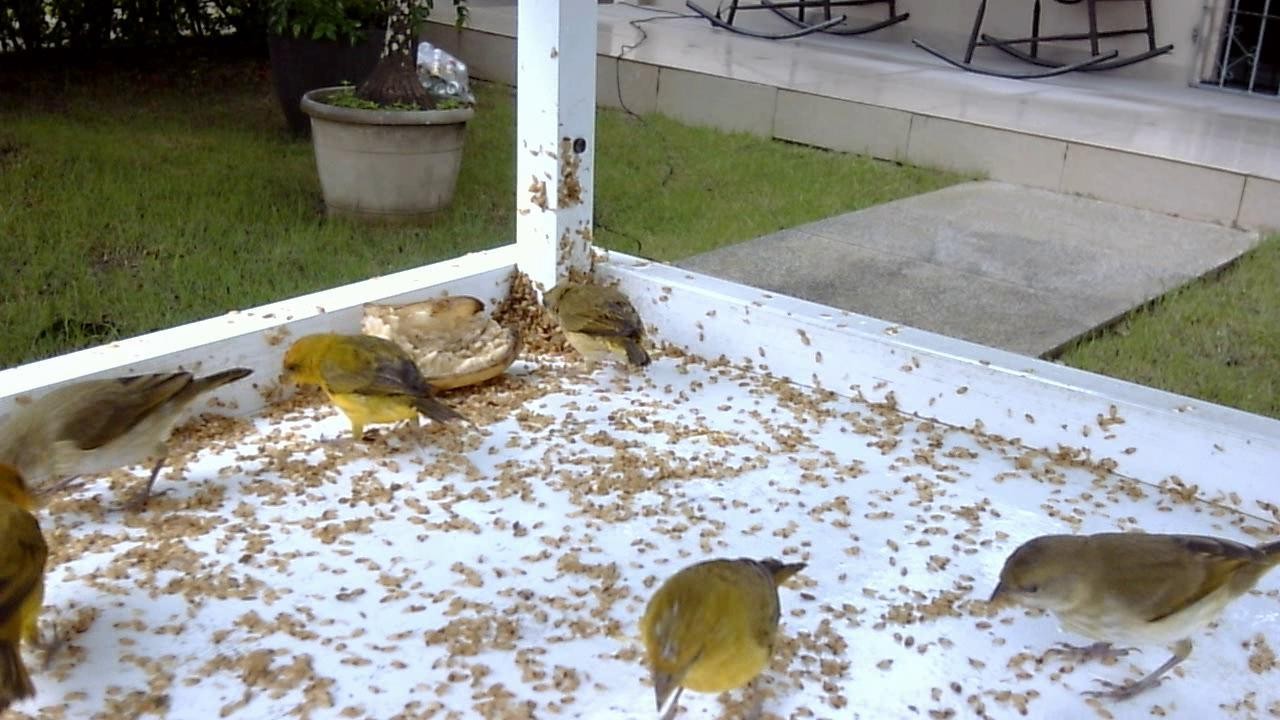canario_do_amazonas: (975, 502, 1276, 713), (4, 363, 258, 512), (635, 548, 805, 720), (271, 327, 474, 450), (1, 449, 58, 718), (540, 270, 658, 379)
